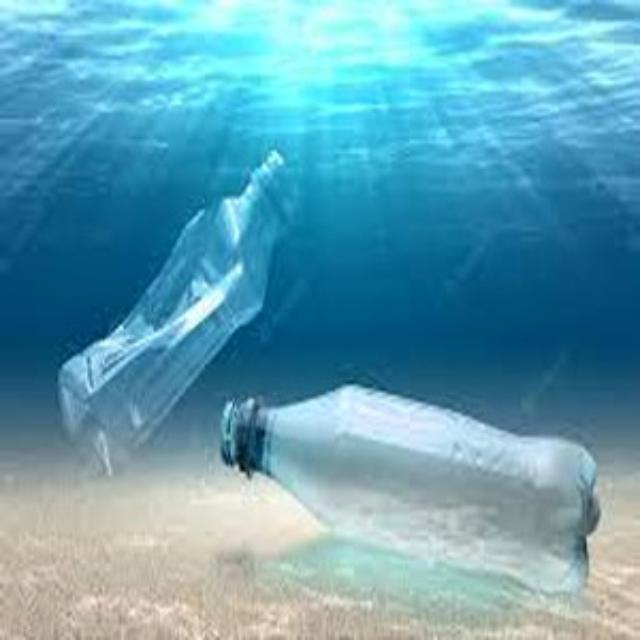Plastic: (212, 387, 602, 598), (44, 142, 286, 474)
